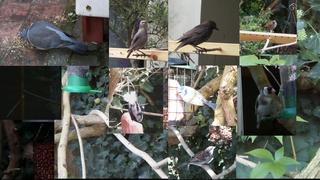blue tit: (176, 86, 217, 110)
dunnock: (259, 20, 277, 33)
goldfinch: (255, 86, 276, 129)
long tailed tit: (132, 88, 143, 123)
mouse: (22, 140, 34, 163)
sparrow: (177, 146, 216, 169)
starling: (174, 20, 220, 54), (126, 20, 148, 59)
wood pigeon: (20, 20, 89, 55)
